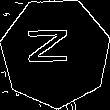N_E: (30, 31, 81, 74)
